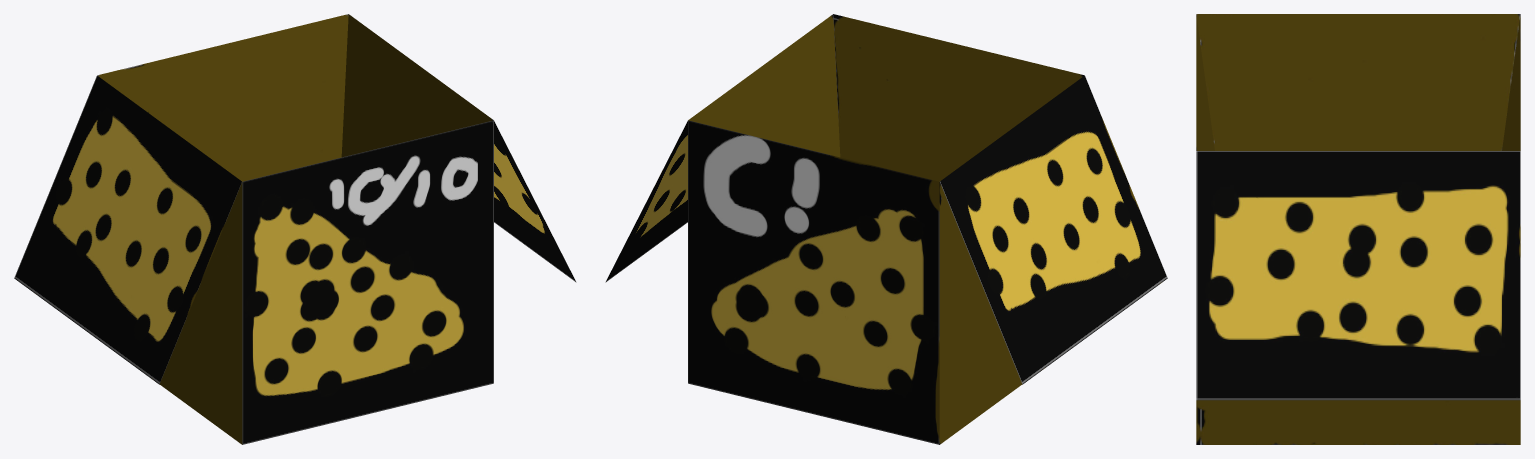
Rendered from Cheese_Box.fbx.
3 renders of one model, left to right at view 1: azimuth 30°, elevation 25°; view 2: azimuth 150°, elevation 25°; view 3: azimuth 270°, elevation 25°, orthographic. The views are drawn at different scales.
Visible parts, largest first — view 1: pCube5; view 2: pCube5; view 3: pCube5.
Part boxes in pixels (x1=…): pCube5: x1=14, y1=14, x2=576, y2=444; pCube5: x1=605, y1=14, x2=1167, y2=444; pCube5: x1=1196, y1=14, x2=1520, y2=444.
Bounding box in the file's own units: 1.66 × 1 × 1.
Materials: 1 (1 with a texture image).
